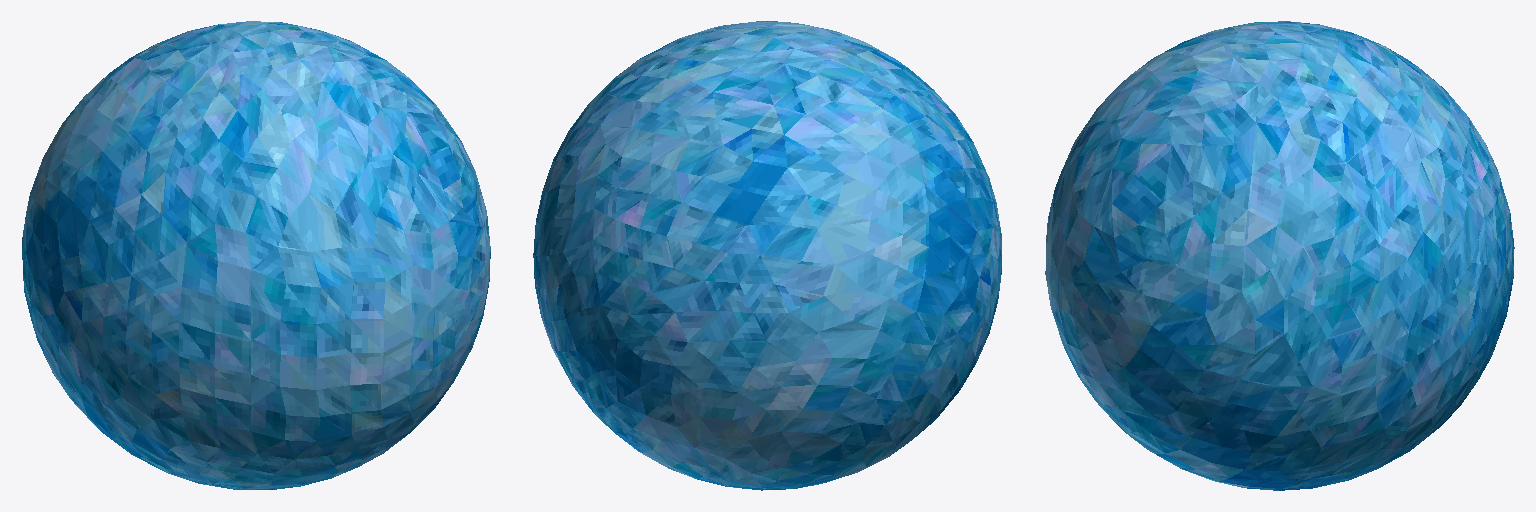
3 renders of one model, left to right at view 1: azimuth 30°, elevation 25°; view 2: azimuth 150°, elevation 25°; view 3: azimuth 270°, elevation 25°, orthographic.
Parts seen in each view (by area): view 1: Sphere001; view 2: Sphere001; view 3: Sphere001.
Boxes of the visible parts, x1=… form: Sphere001: x1=22, y1=21, x2=490, y2=489; Sphere001: x1=533, y1=21, x2=1001, y2=490; Sphere001: x1=1045, y1=21, x2=1514, y2=490.
Size of the model in its own units: 0.2041 by 0.2043 by 0.2041.
1 materials, 1 textured.